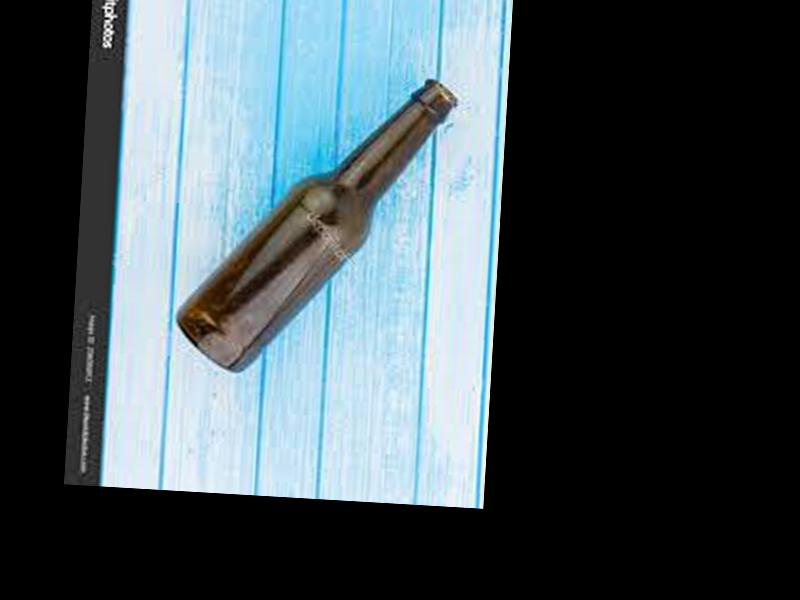Beer: (168, 67, 459, 385)
